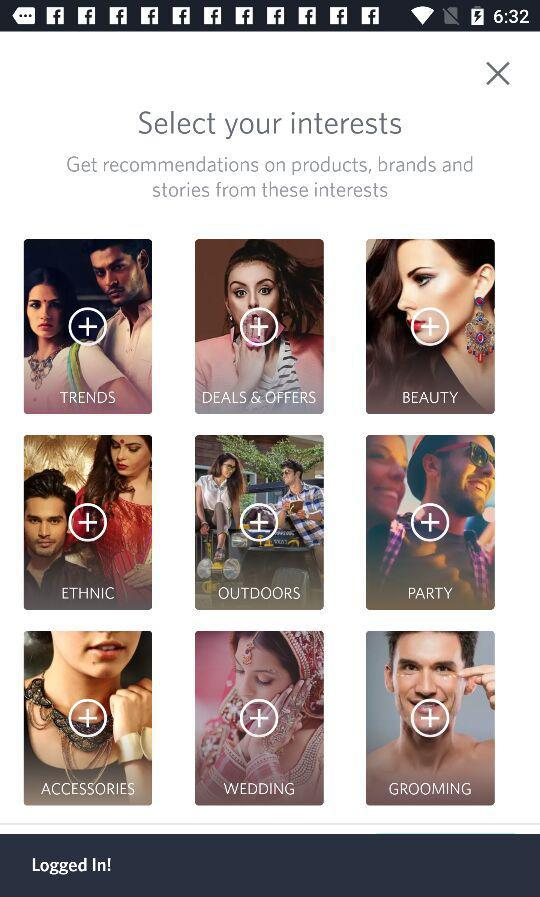Icon: (240, 502, 280, 543), (69, 502, 109, 543), (240, 307, 280, 348), (411, 699, 451, 739), (69, 699, 109, 739), (69, 308, 109, 348), (411, 502, 450, 543), (240, 698, 279, 738), (410, 307, 449, 347), (486, 62, 511, 87)
Image: (366, 435, 496, 611), (195, 435, 325, 611), (365, 239, 495, 415), (195, 239, 325, 415), (195, 631, 325, 806), (24, 435, 153, 611), (366, 631, 495, 806), (24, 631, 153, 806), (25, 240, 153, 415)
Text: (67, 155, 473, 199), (139, 111, 402, 141), (33, 857, 112, 876), (202, 392, 316, 405), (41, 782, 136, 796), (389, 782, 472, 796), (219, 587, 301, 601), (224, 782, 295, 796), (402, 391, 459, 404), (59, 392, 116, 405), (62, 587, 115, 600), (408, 587, 453, 601)
UpperTaskBar: (1, 1, 540, 33)
